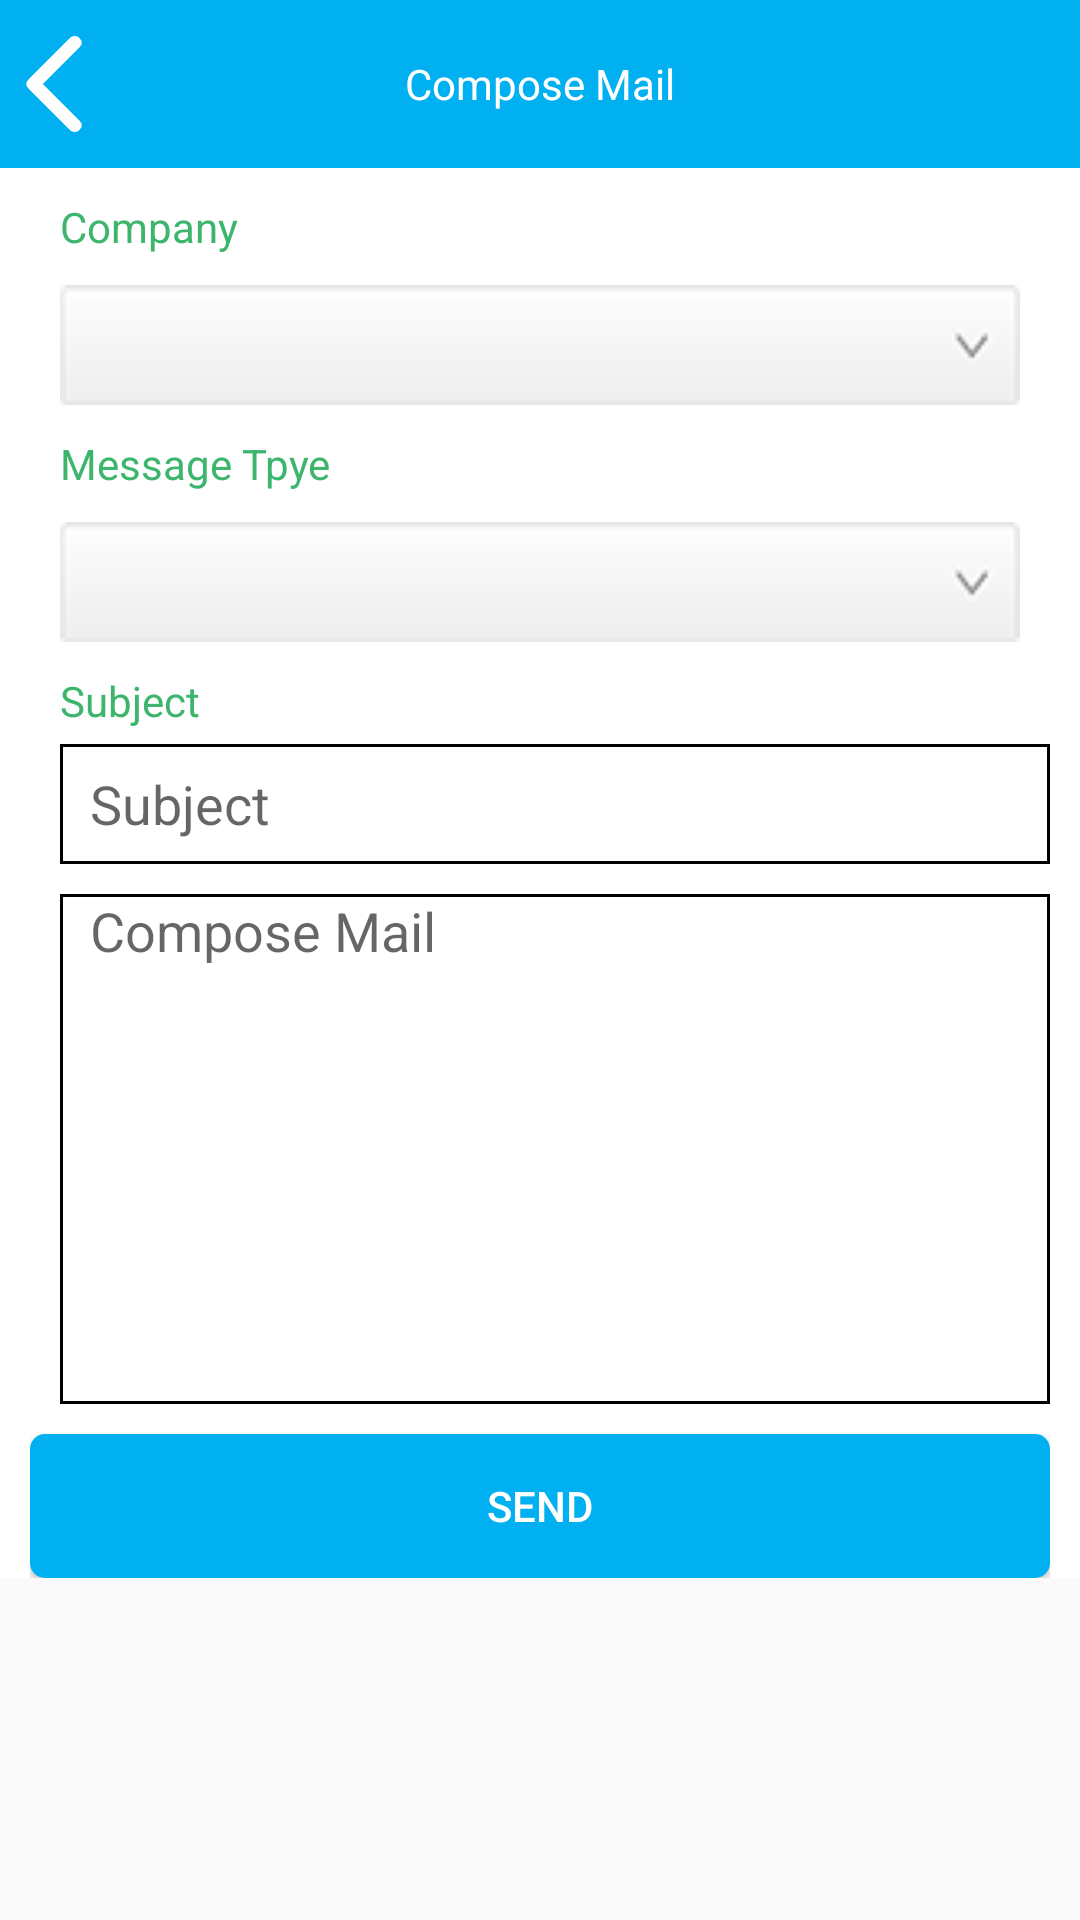

Locate icon controls on the screen. Image size 1080x1920, boxes as bbox=(x1, y1, x2, y2).
back: bbox=(26, 36, 82, 132)
